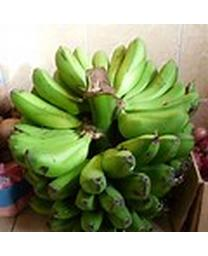banana: (11, 39, 197, 234)
